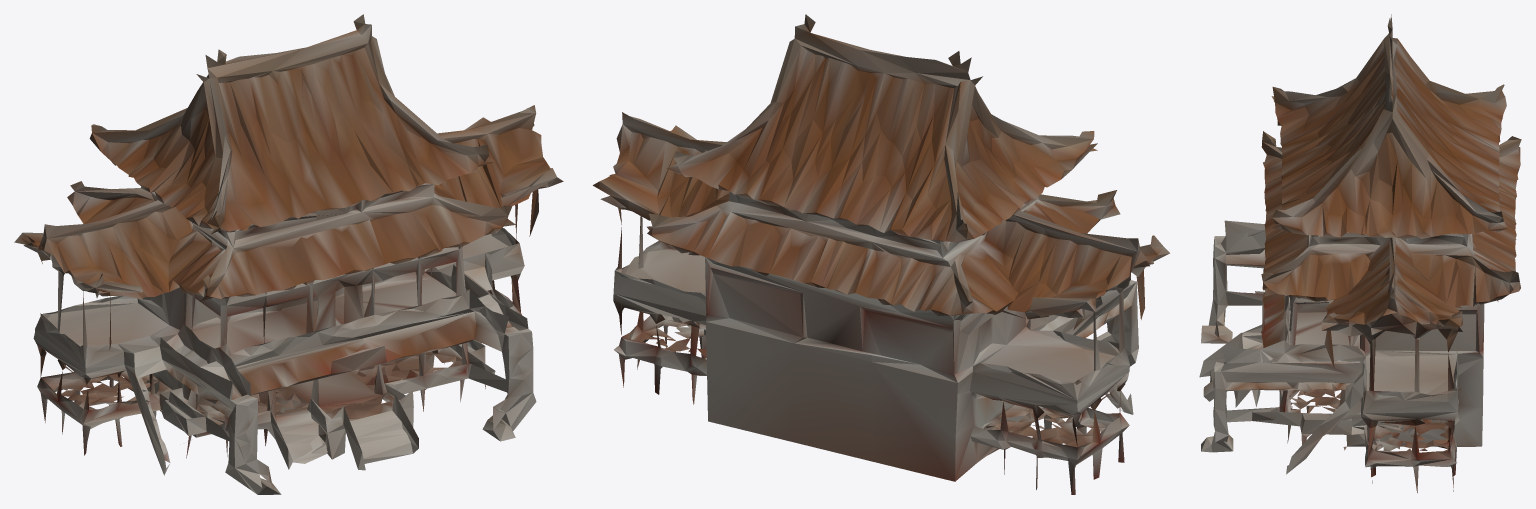
File: palace_grand.vc.glb
3 views of the same model, side by side, from view 1: azimuth 30°, elevation 25°; view 2: azimuth 150°, elevation 25°; view 3: azimuth 270°, elevation 25° (orthographic). The views are drawn at different scales.
Visible parts, largest first — view 1: palace_grand; view 2: palace_grand; view 3: palace_grand.
Boxes of the visible parts, box(x1,y1,x2,y2) form: palace_grand: box(14, 14, 563, 494); palace_grand: box(593, 14, 1169, 494); palace_grand: box(1199, 14, 1521, 492).
Size of the model in its own units: 1.89 by 1.33 by 1.12.
